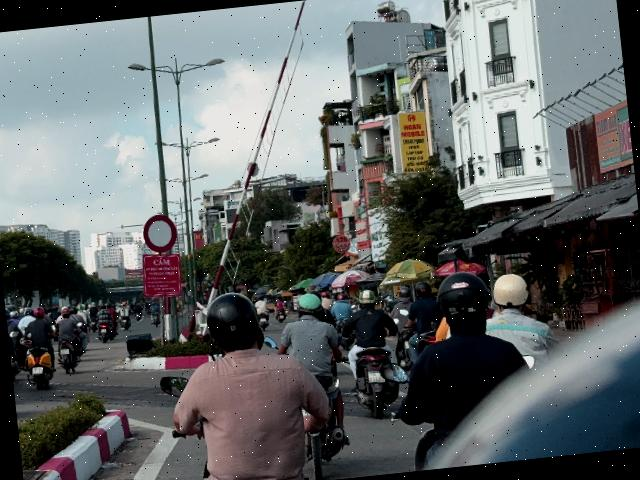duong-cam: (141, 213, 178, 254)
